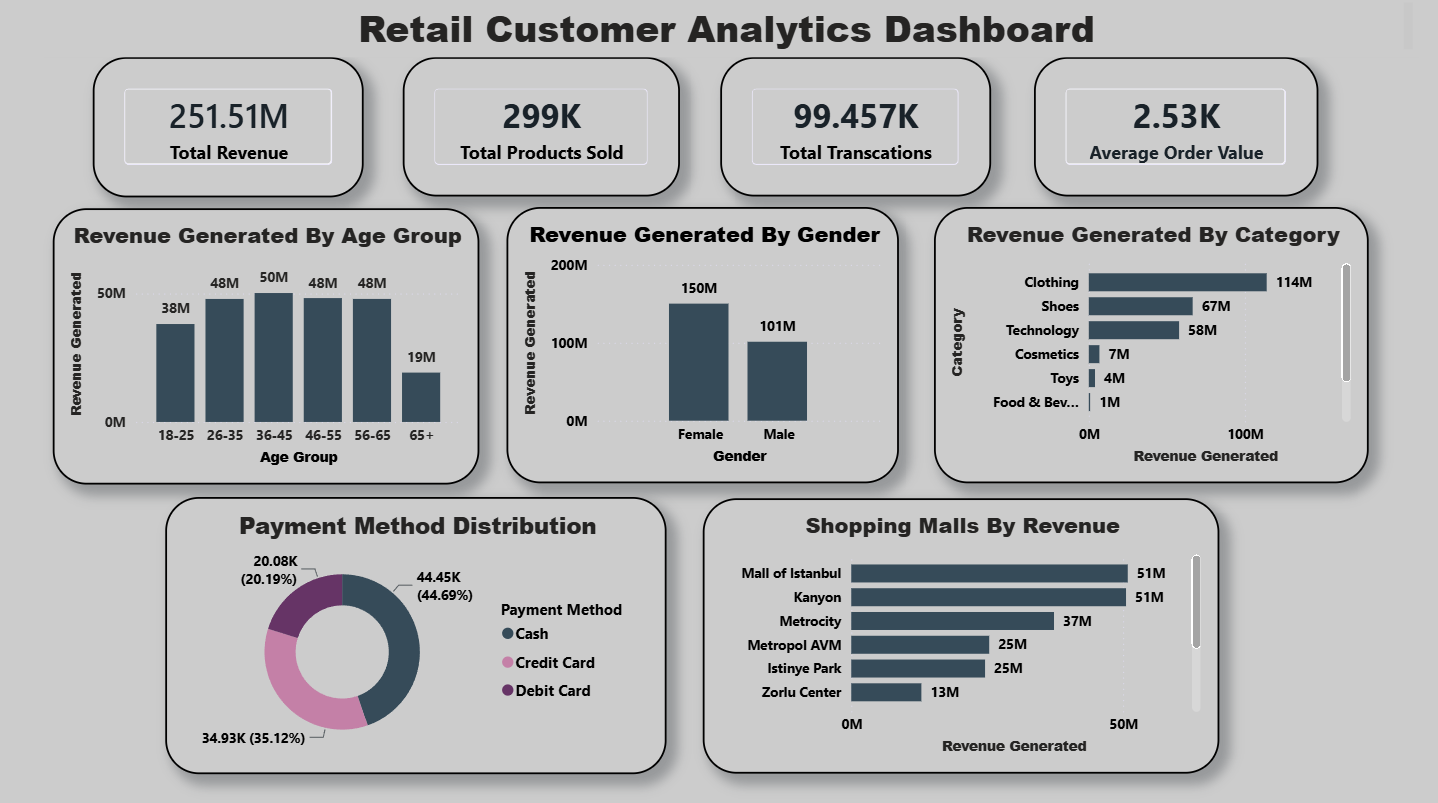

The page's visual inventory and layout, read from the dashboard file:
{"tool":"powerbi","page":{"name":"Page 6","canvas":[1280,720],"ordinal":5},"visuals":[{"type":"cardVisual","fields":{"Data":["Customer.total revenue"]},"box":[83.3,53.3,241.1,124.4],"z":0},{"type":"cardVisual","fields":{"Data":["Customer.total quantity"]},"box":[359.2,53.4,246.7,124.1],"z":1000},{"type":"cardVisual","fields":{"Data":["Count(Customer.invoice_no)"]},"box":[640.6,53.4,240.9,124.1],"z":2000},{"type":"cardVisual","fields":{"Data":["Avg(Customer.revenue)"]},"box":[920.5,53.4,252.5,124.1],"z":3000},{"type":"clusteredColumnChart","title":"Revenue Generated By Age Group","fields":{"Category":["Customer.age group"],"Y":["Sum(Customer.revenue)"]},"box":[47.8,187.8,378.9,245.6],"z":4000},{"type":"clusteredColumnChart","title":"Revenue Generated By Gender","fields":{"Category":["Customer.gender"],"Y":["Sum(Customer.revenue)"]},"box":[451.1,186.7,348.9,245.6],"z":5000},{"type":"clusteredBarChart","title":"Revenue Generated By Category","fields":{"Category":["Customer.category"],"Y":["Sum(Customer.revenue)"]},"box":[831.1,186.7,386.7,245.6],"z":6000},{"type":"textbox","box":[40.4,0,1222,53.4],"z":7000},{"type":"donutChart","title":"Payment Method Distribution","fields":{"Category":["Customer.payment_method"],"Y":["CountNonNull(Customer.invoice_no)"]},"box":[147.8,444.4,445.6,246.7],"z":8000},{"type":"barChart","title":"Shopping Malls By Revenue","fields":{"Y":["Sum(Customer.revenue)"],"Category":["Customer.shopping_mall"]},"box":[625.6,445.6,458.9,244.4],"z":9000}]}

Visuals, with their boxes in screenshot pixels (x1, y1, x2, y2), scaled from the page's 1280x720 canvas onto the 1438x803 screenshot:
cardVisual - Customer.total revenue: <region>94, 59, 364, 198</region>
cardVisual - Customer.total quantity: <region>404, 60, 681, 198</region>
cardVisual - Count(Customer.invoice_no): <region>720, 60, 990, 198</region>
cardVisual - Avg(Customer.revenue): <region>1034, 60, 1318, 198</region>
"Revenue Generated By Age Group" clusteredColumnChart: <region>54, 209, 479, 483</region>
"Revenue Generated By Gender" clusteredColumnChart: <region>507, 208, 899, 482</region>
"Revenue Generated By Category" clusteredBarChart: <region>934, 208, 1368, 482</region>
textbox: <region>45, 0, 1418, 60</region>
"Payment Method Distribution" donutChart: <region>166, 496, 667, 771</region>
"Shopping Malls By Revenue" barChart: <region>703, 497, 1218, 770</region>
